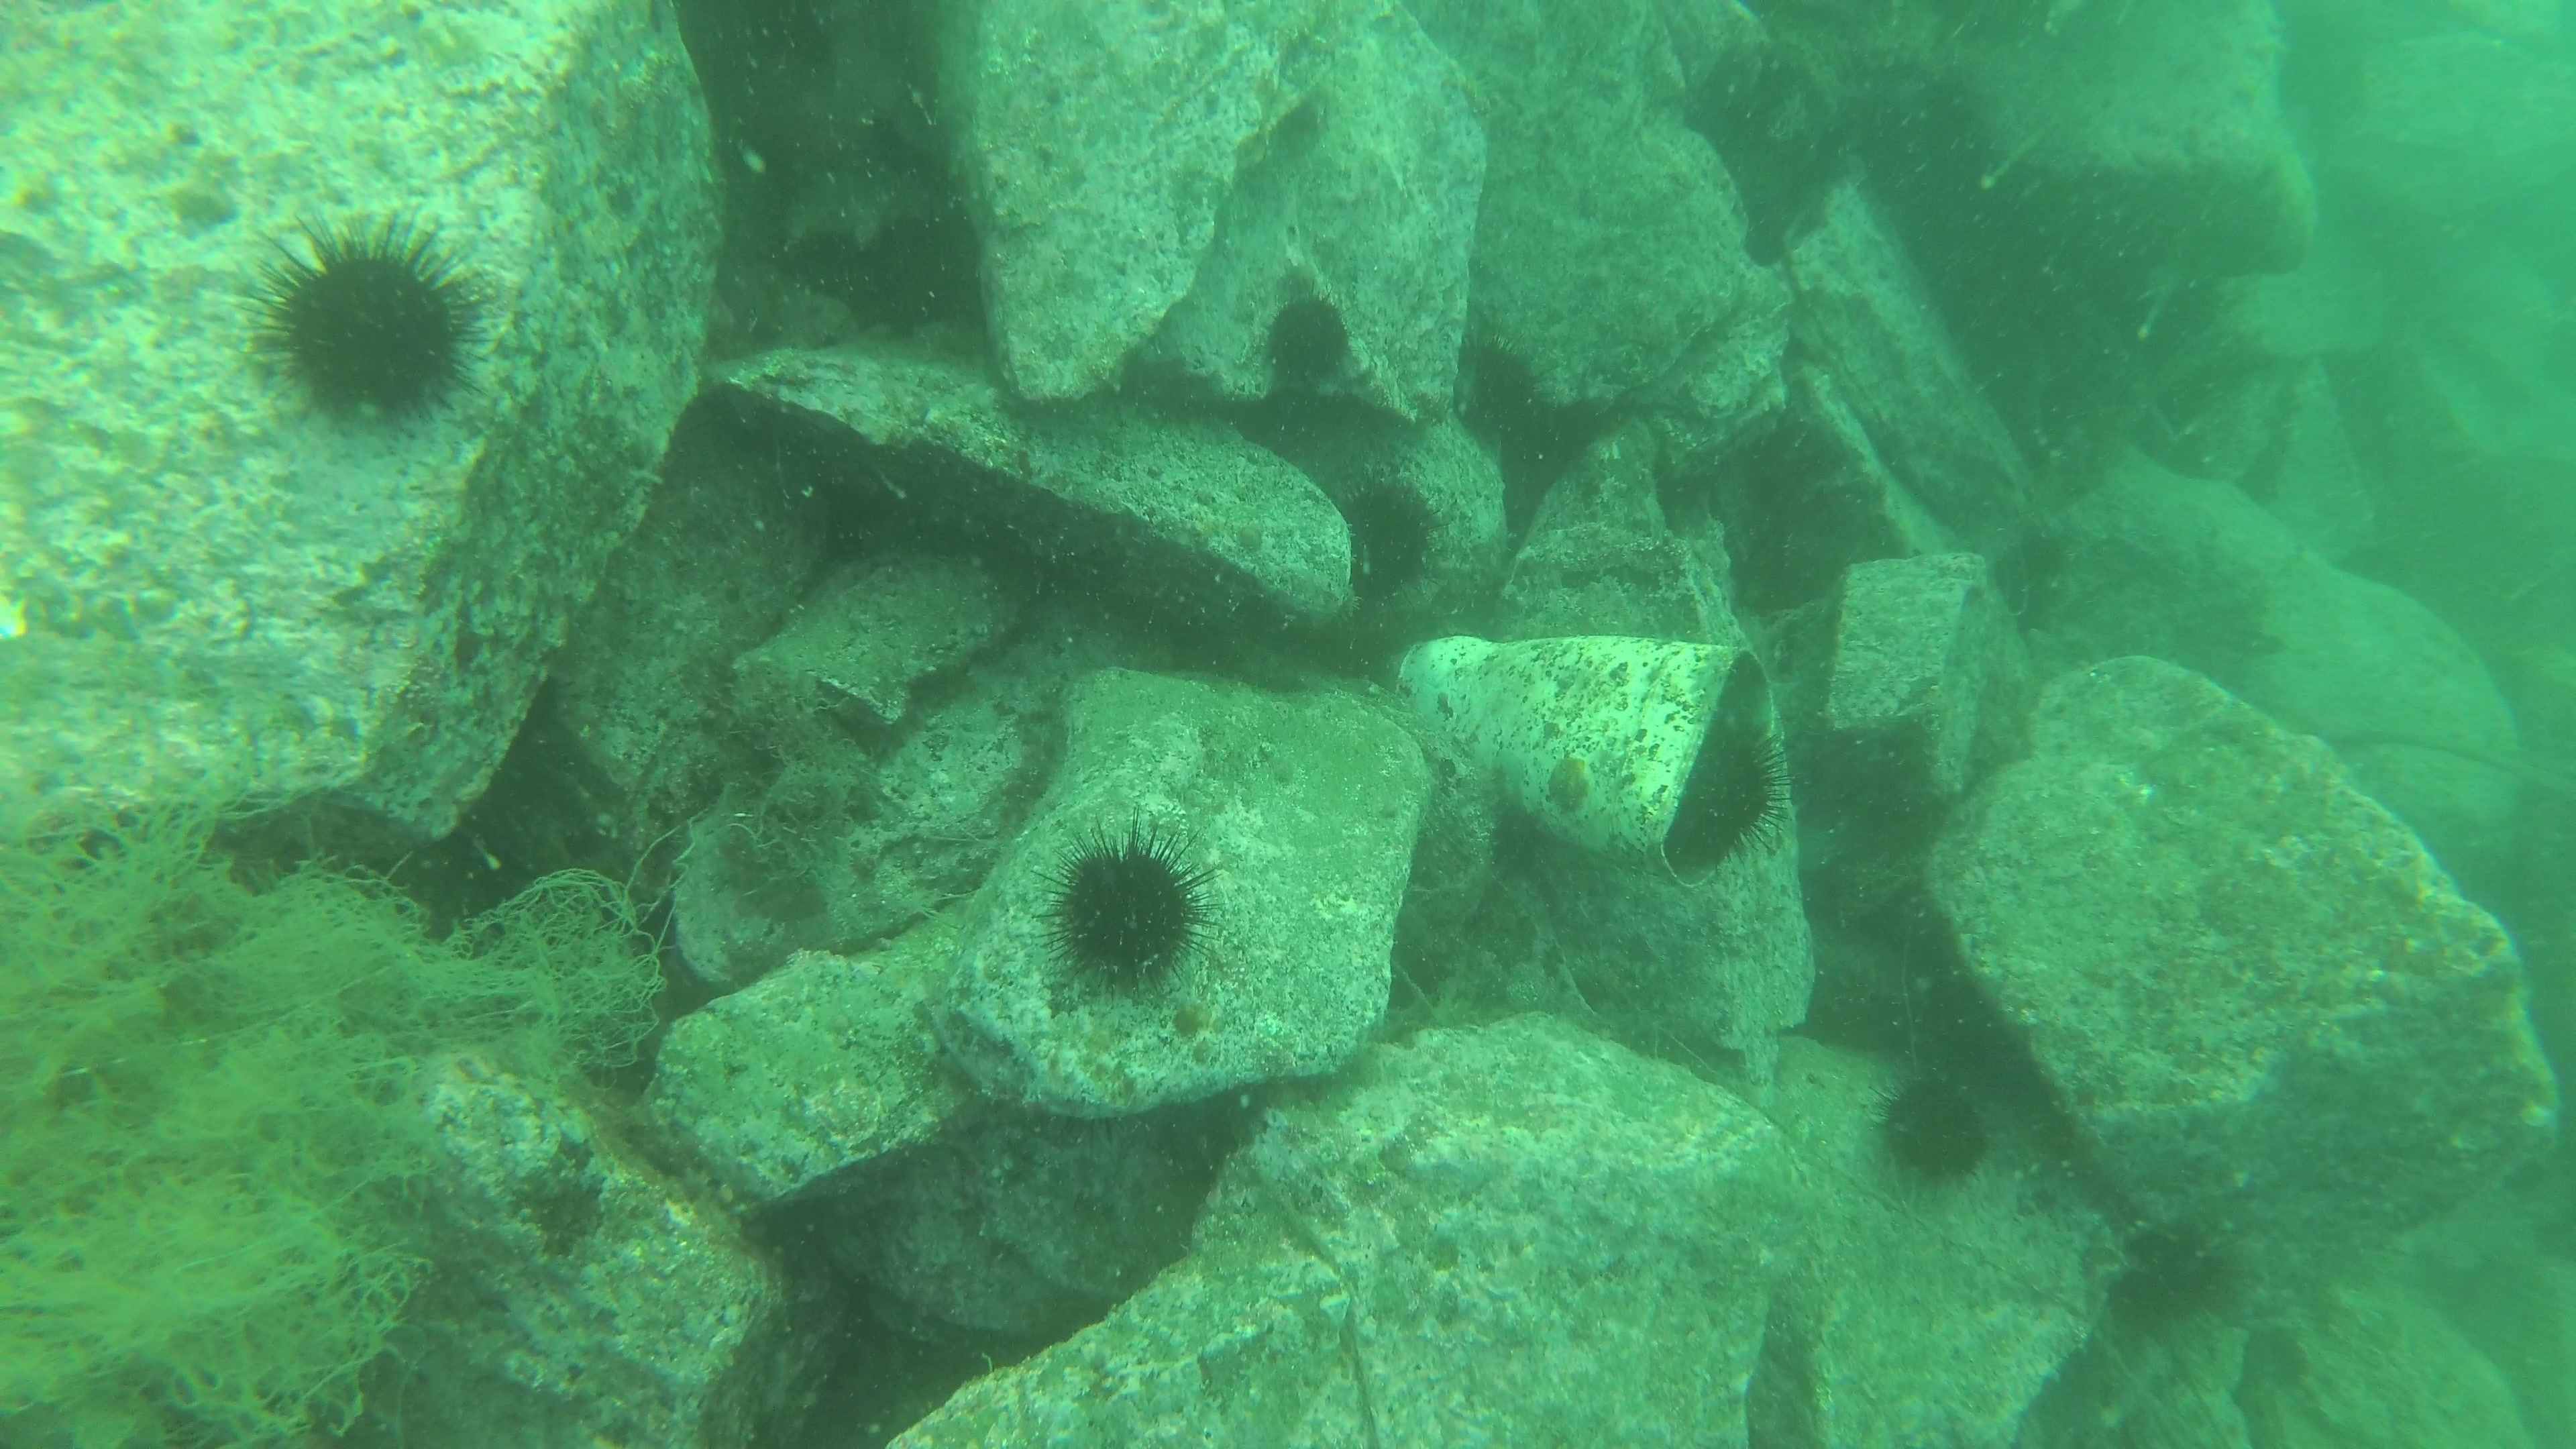echinus: (244, 214, 488, 433), (1039, 824, 1215, 998), (1660, 715, 1787, 878), (2102, 1214, 2243, 1338), (1870, 1069, 1997, 1189), (1330, 472, 1445, 605), (1254, 287, 1359, 396), (1460, 327, 1550, 435)
